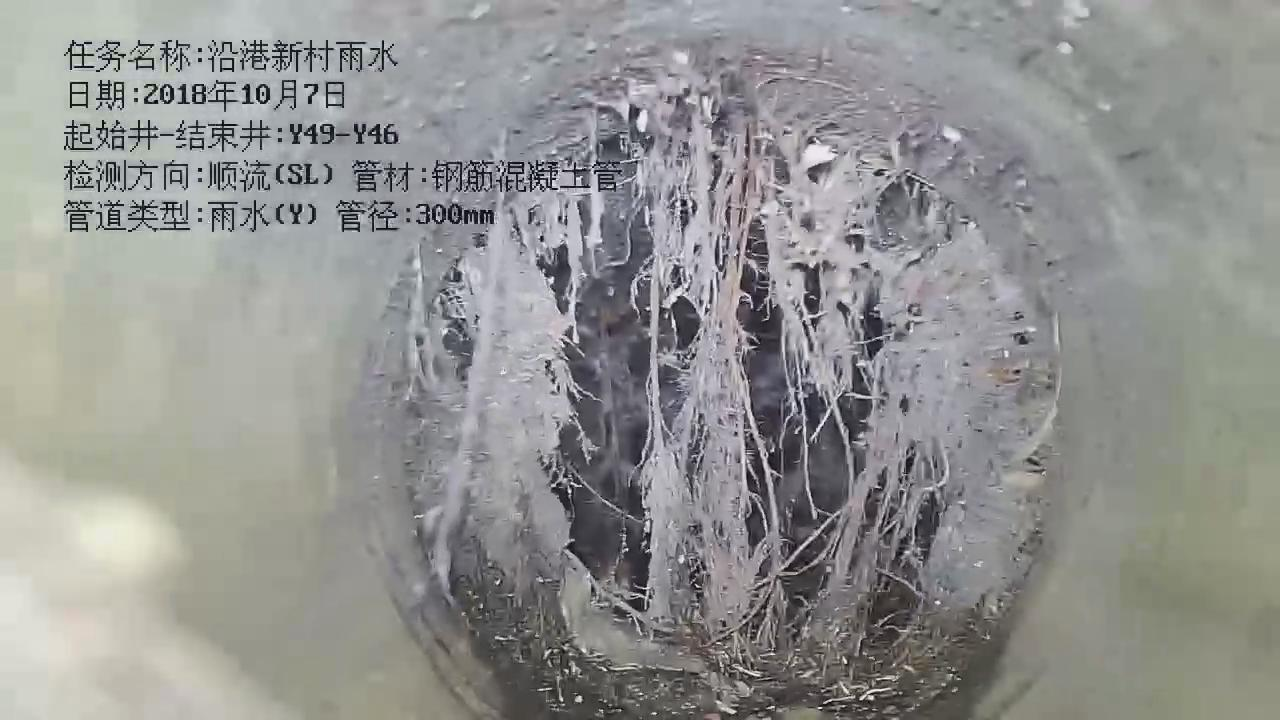SG: (391, 15, 1057, 719)
